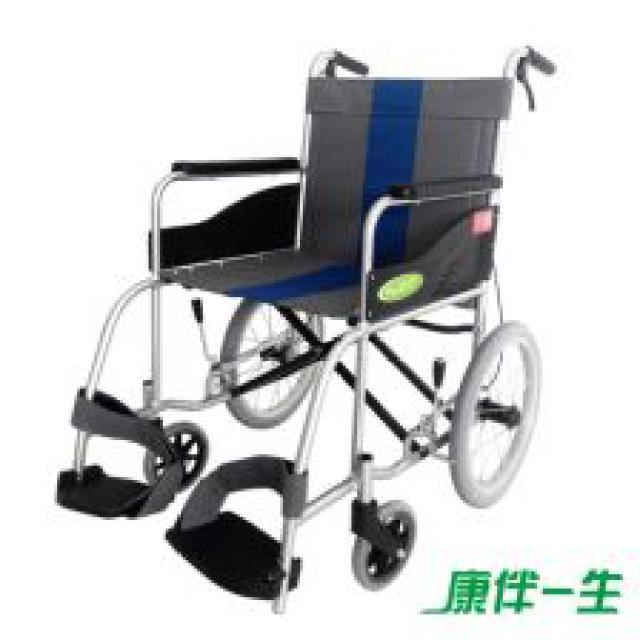wheelchair: (54, 17, 580, 612)
